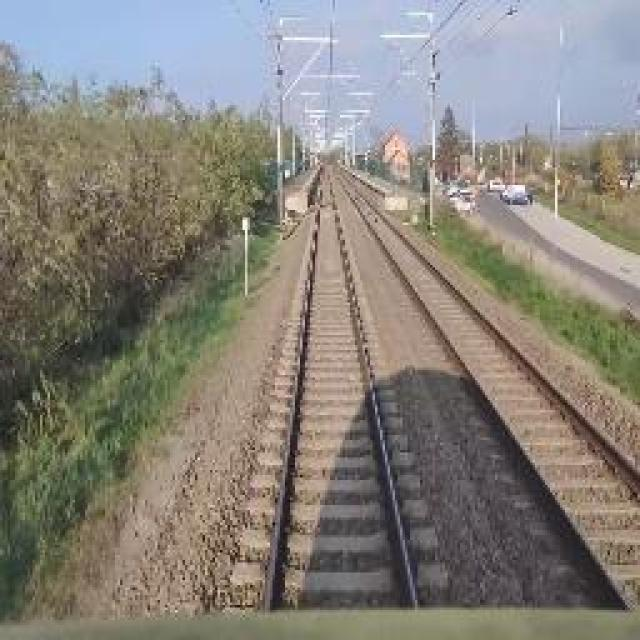rail: (220, 163, 459, 612)
